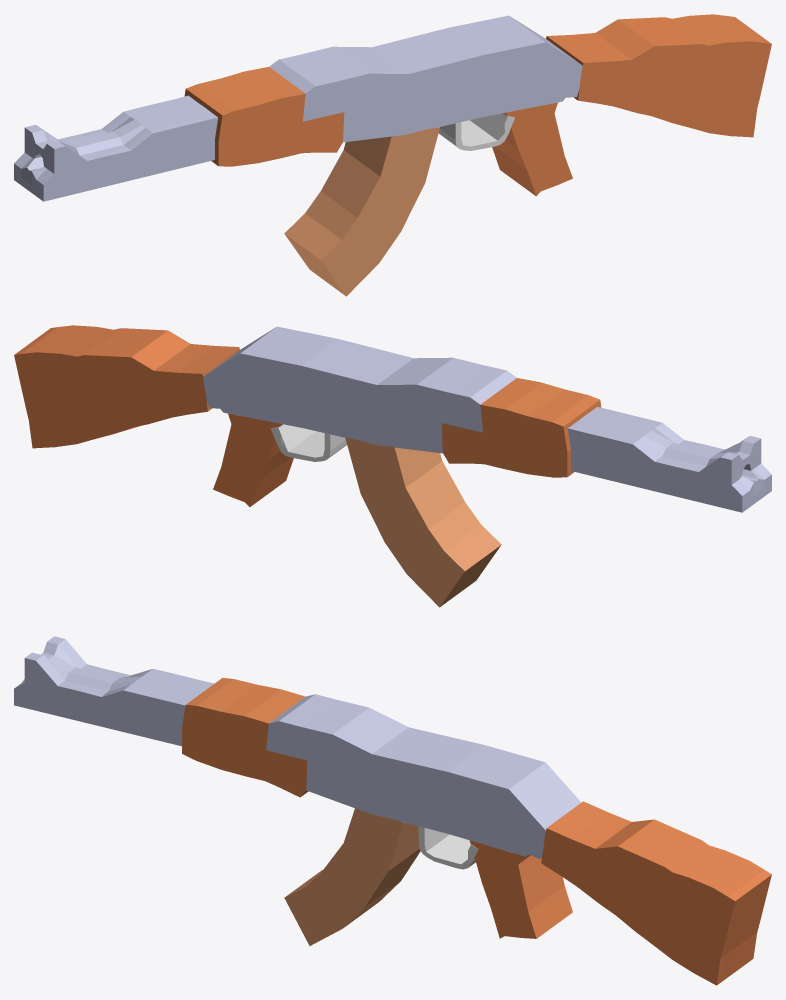
File: ak-gonbader.fbx
3 views of the same model, one above another, from view 1: azimuth 30°, elevation 25°; view 2: azimuth 150°, elevation 25°; view 3: azimuth 330°, elevation 25° (orthographic).
Parts seen in each view (by area): view 1: Cube.001, Circle, Cube; view 2: Cube.001, Circle, Cube; view 3: Cube.001, Circle, Cube.
Part boxes in pixels (bbox=[...]): Cube.001: bbox=[184, 14, 771, 296]; Circle: bbox=[14, 95, 218, 201]; Cube: bbox=[438, 113, 514, 150]; Cube.001: bbox=[14, 325, 601, 607]; Circle: bbox=[567, 407, 771, 512]; Cube: bbox=[271, 424, 346, 461]; Cube.001: bbox=[182, 678, 771, 985]; Circle: bbox=[14, 636, 214, 746]; Cube: bbox=[418, 826, 478, 869].
Size of the model in its own units: 455 by 131 by 40.06.
